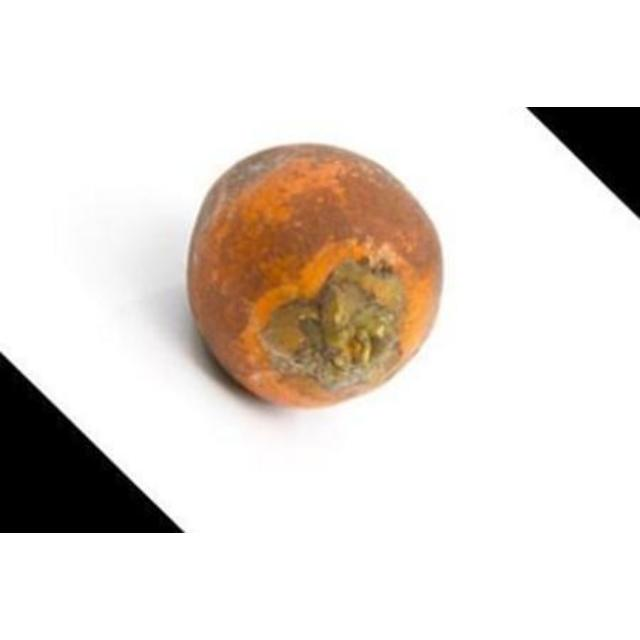good: (185, 144, 445, 411)
